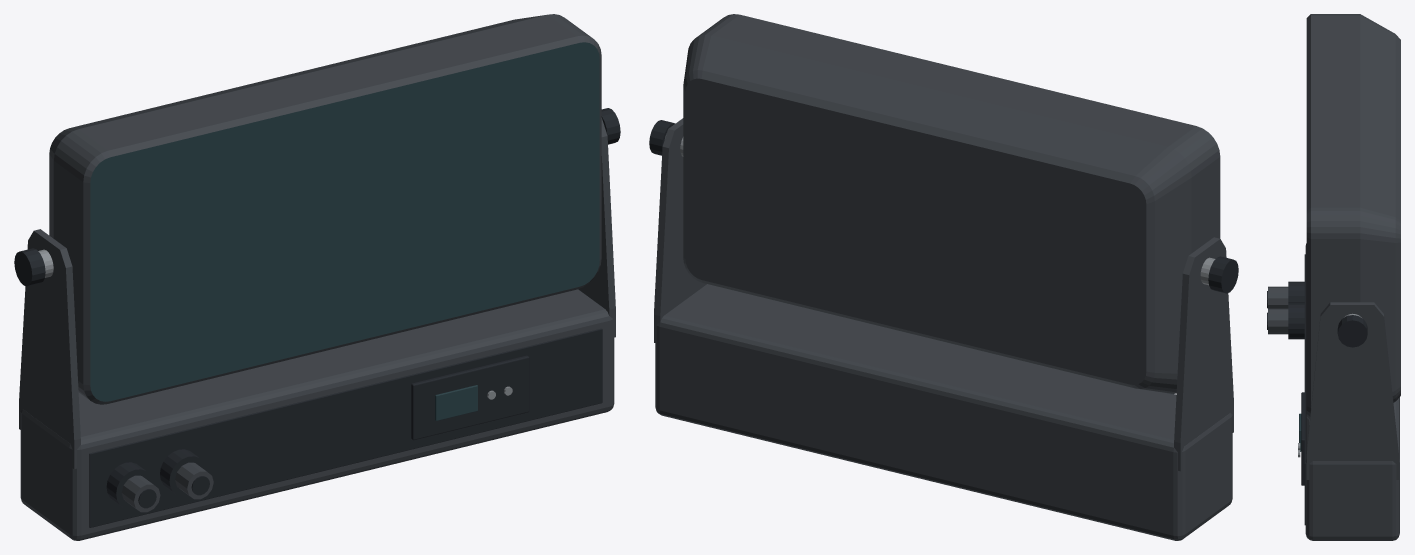
The model's file is showtechelixs5000q4.glb.
The picture shows the model from 3 angles, left to right: view 1: azimuth 30°, elevation 25°; view 2: azimuth 150°, elevation 25°; view 3: azimuth 270°, elevation 25°; orthographic projection. The views are drawn at different scales.
Parts seen in each view (by area): view 1: Basamento; view 2: Basamento; view 3: Basamento.
Boxes of the visible parts, box(x1,y1,x2,y2) form: Basamento: box(14, 14, 620, 540); Basamento: box(649, 14, 1238, 540); Basamento: box(1267, 14, 1400, 540).
Size of the model in its own units: 0.53 by 0.33 by 0.125.
